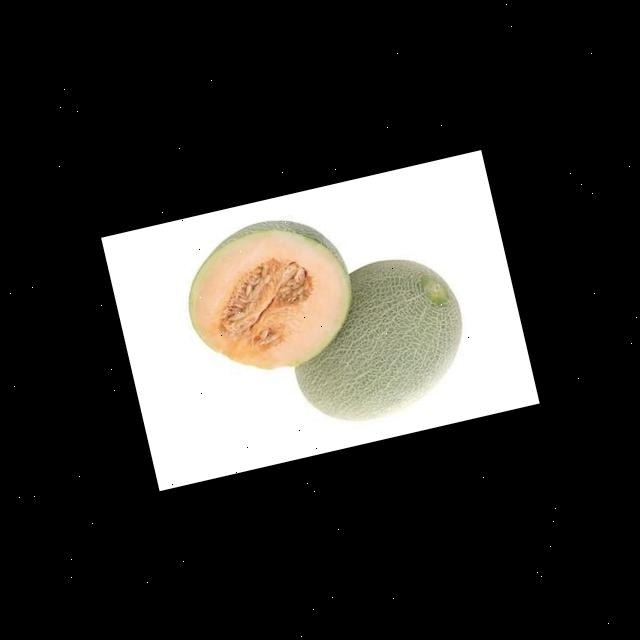Hami Melon: (274, 245, 476, 432), (172, 204, 366, 386)
